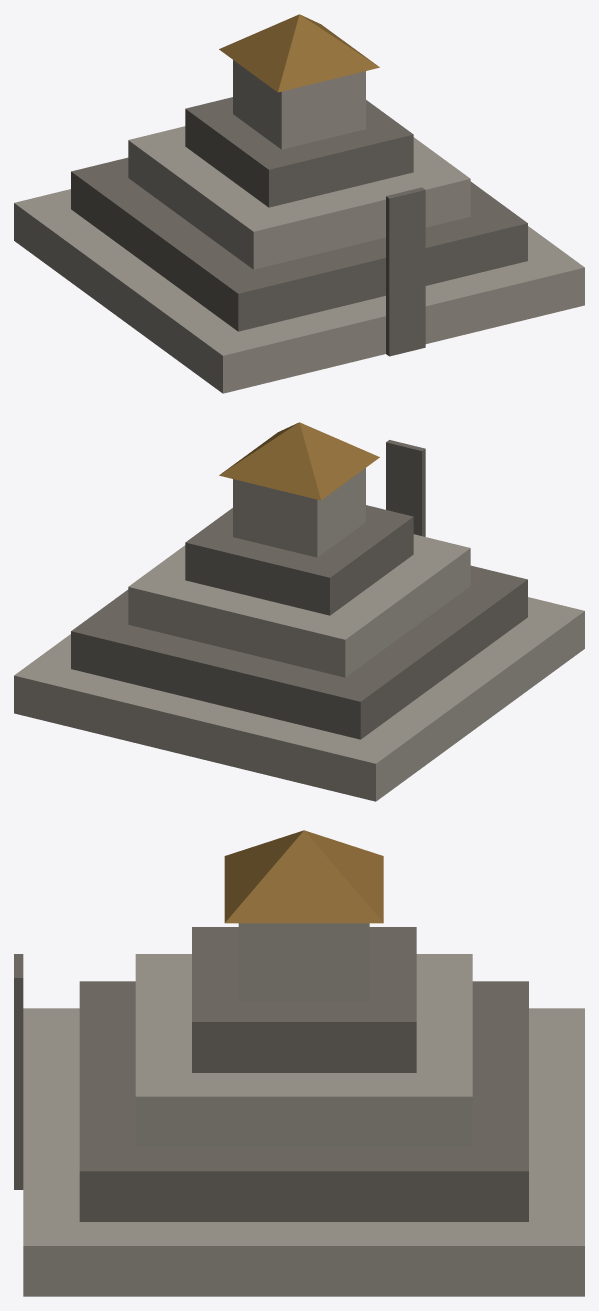
File: ushnu.glb
The picture shows the model from 3 angles, top to bottom: view 1: azimuth 30°, elevation 25°; view 2: azimuth 150°, elevation 25°; view 3: azimuth 270°, elevation 25°; orthographic projection. The views are drawn at different scales.
Parts seen in each view (by area): view 1: ushnu; view 2: ushnu; view 3: ushnu.
Part boxes in pixels (x1=…): ushnu: x1=14, y1=14, x2=584, y2=393; ushnu: x1=14, y1=422, x2=584, y2=801; ushnu: x1=14, y1=830, x2=584, y2=1296.
Bounding box in the file's own units: 1.2 × 0.82 × 1.22.
